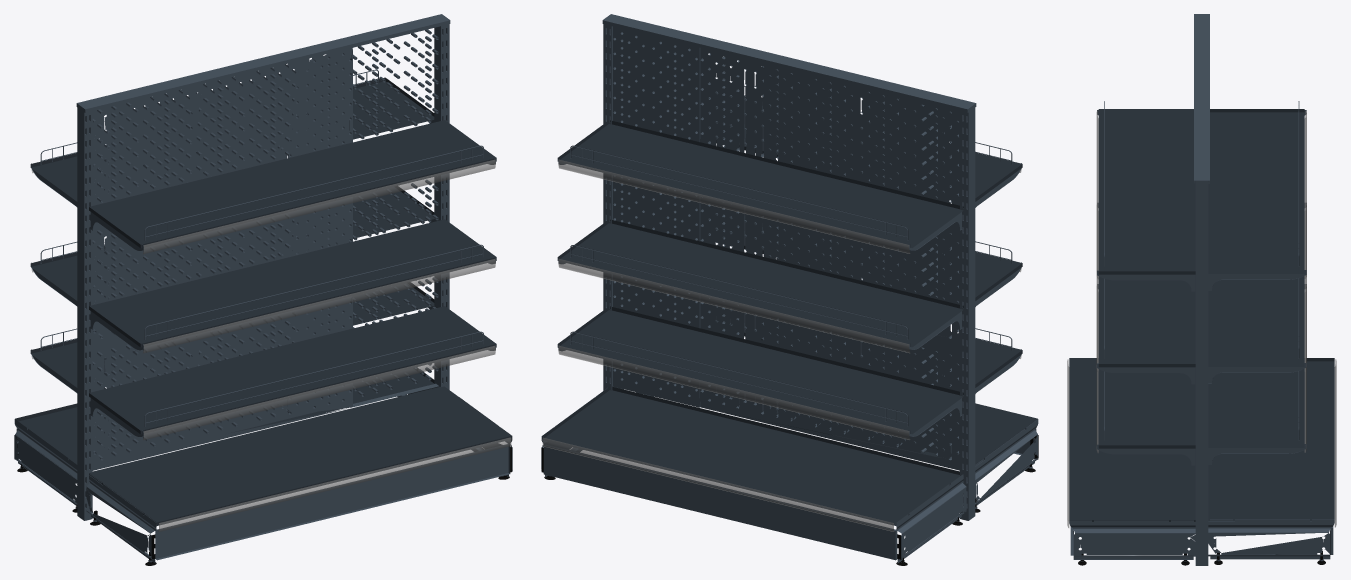
File: GONDOLA-53-48.glb
3 views of the same model, side by side, from view 1: azimuth 30°, elevation 25°; view 2: azimuth 150°, elevation 25°; view 3: azimuth 270°, elevation 25° (orthographic). The views are drawn at different scales.
Size of the model in its own units: 1.3 by 1.4 by 0.8857.
